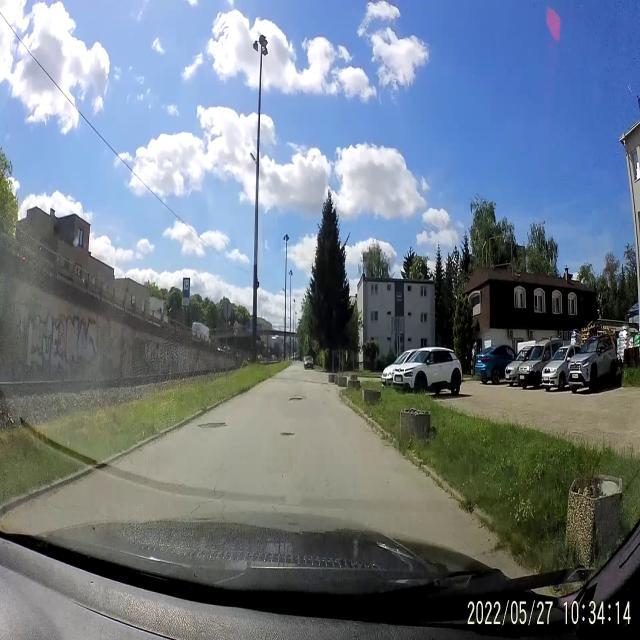Pothole: (197, 415, 229, 433), (279, 426, 298, 439), (287, 393, 304, 403)
